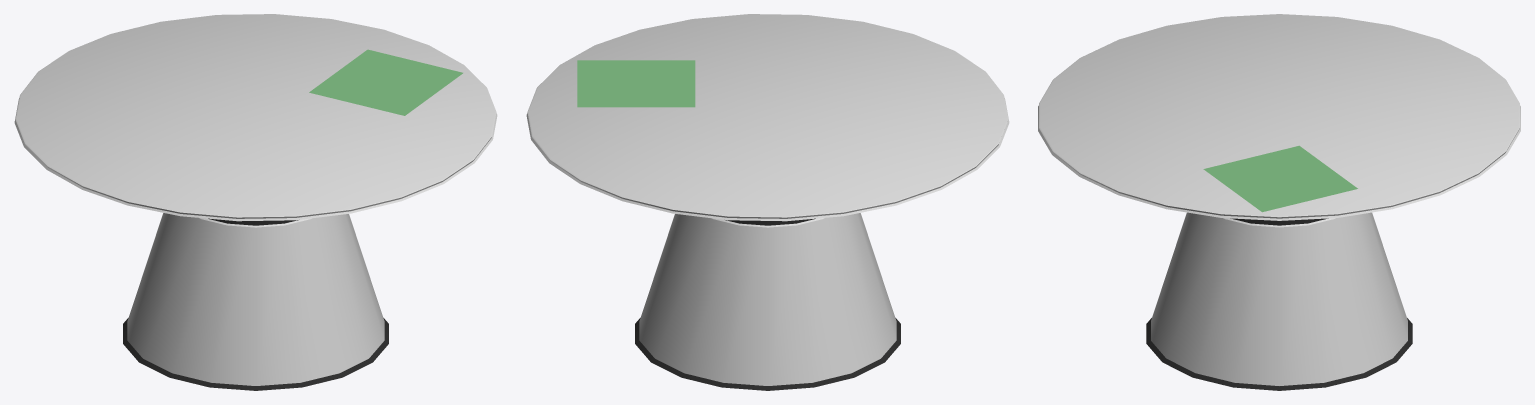
3 views of the same model, side by side, from view 1: azimuth 30°, elevation 25°; view 2: azimuth 150°, elevation 25°; view 3: azimuth 270°, elevation 25° (orthographic).
Parts seen in each view (by area): view 1: TT4120; view 2: TT4120; view 3: TT4120.
Boxes of the visible parts, box(x1,y1,x2,y2) form: TT4120: box(14, 14, 497, 390); TT4120: box(526, 14, 1009, 390); TT4120: box(1038, 14, 1520, 390).
Size of the model in its own units: 150 by 150 by 75.
